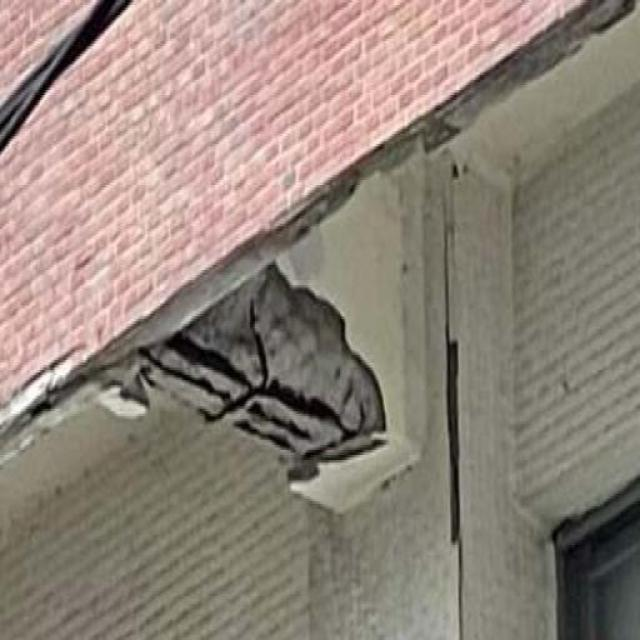D0w0: (140, 262, 385, 455)
